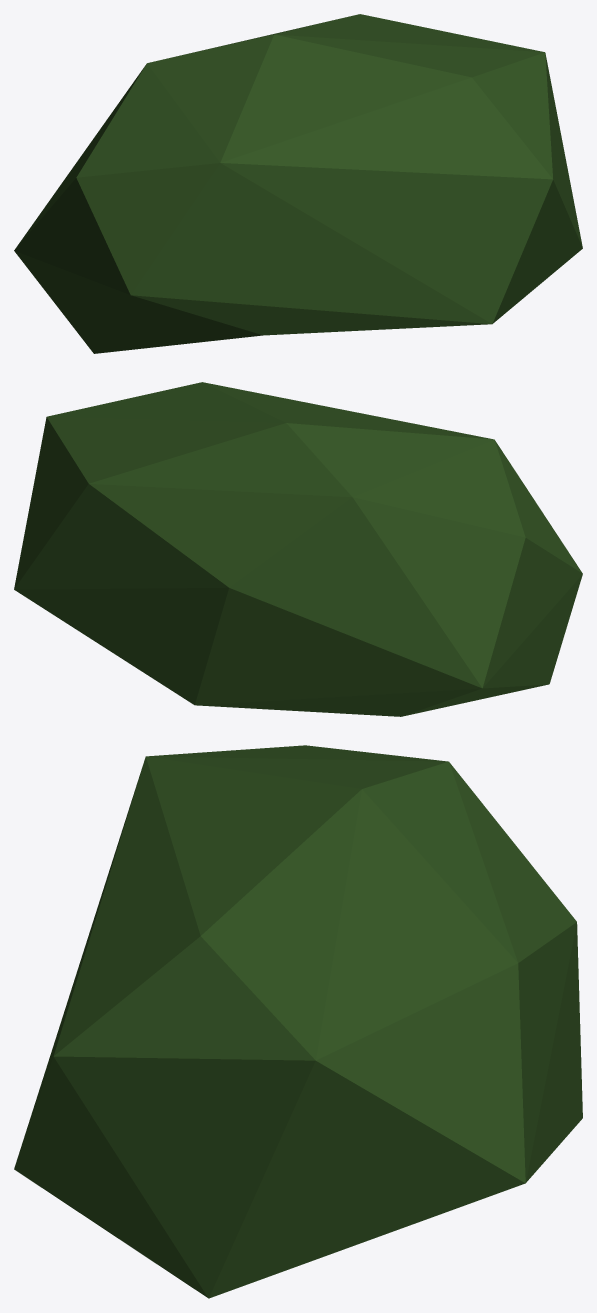
Rendered from SM_bush_01.fbx.
3 renders of one model, top to bottom at view 1: azimuth 30°, elevation 25°; view 2: azimuth 150°, elevation 25°; view 3: azimuth 270°, elevation 25°, orthographic. The views are drawn at different scales.
Parts seen in each view (by area): view 1: Object134; view 2: Object134; view 3: Object134.
Boxes of the visible parts, x1,y1,x2,y2 form: Object134: (14, 14, 582, 353); Object134: (14, 382, 582, 716); Object134: (14, 745, 582, 1298).
Bounding box in the file's own units: 78.55 × 38.28 × 56.78.
